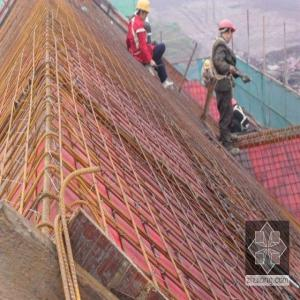red: (219, 18, 235, 43)
yellow: (135, 3, 151, 23), (204, 59, 212, 72)
